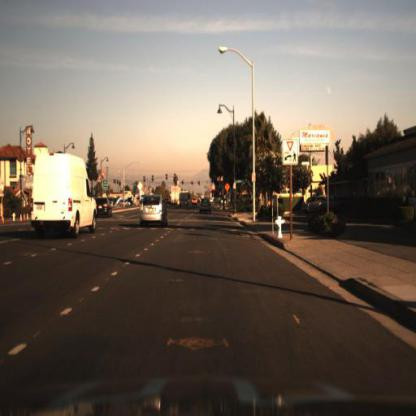car: (31, 153, 100, 250), (139, 194, 169, 228), (307, 193, 340, 218), (93, 195, 114, 222), (198, 194, 215, 217), (178, 189, 192, 210), (187, 193, 198, 213)
truck: (31, 152, 100, 240), (169, 185, 183, 210), (181, 194, 191, 210)
